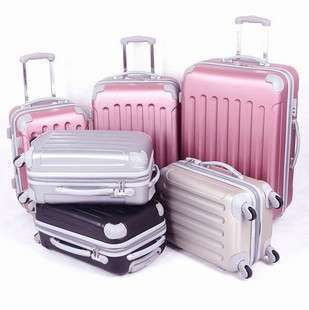luggage: (16, 131, 162, 205)
